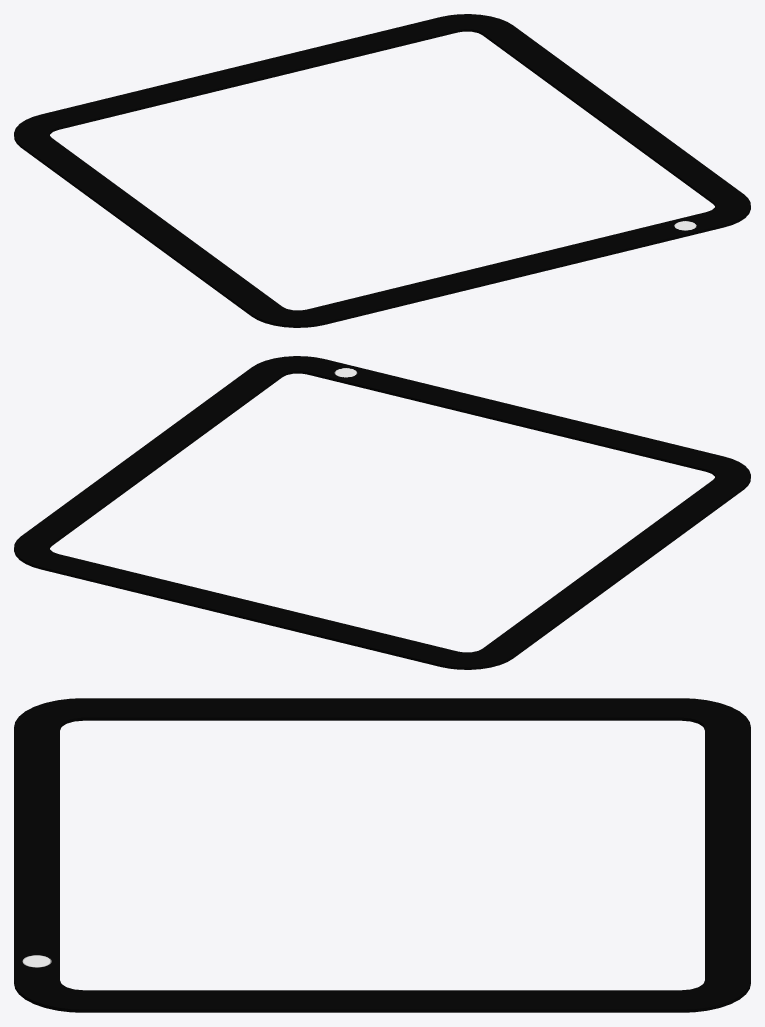
File: T5_border.glb
3 views of the same model, one above another, from view 1: azimuth 30°, elevation 25°; view 2: azimuth 150°, elevation 25°; view 3: azimuth 270°, elevation 25° (orthographic). The views are drawn at different scales.
Parts seen in each view (by area): view 1: Border_LE; view 2: Border_LE; view 3: Border_LE.
Part boxes in pixels (x1,y1,x2,y2): Border_LE: [14, 14, 750, 327]; Border_LE: [14, 356, 750, 669]; Border_LE: [14, 698, 750, 1012].
Bounding box in the file's own units: 0.8 × 0.00375 × 0.8.
1 material, 1 textured.
